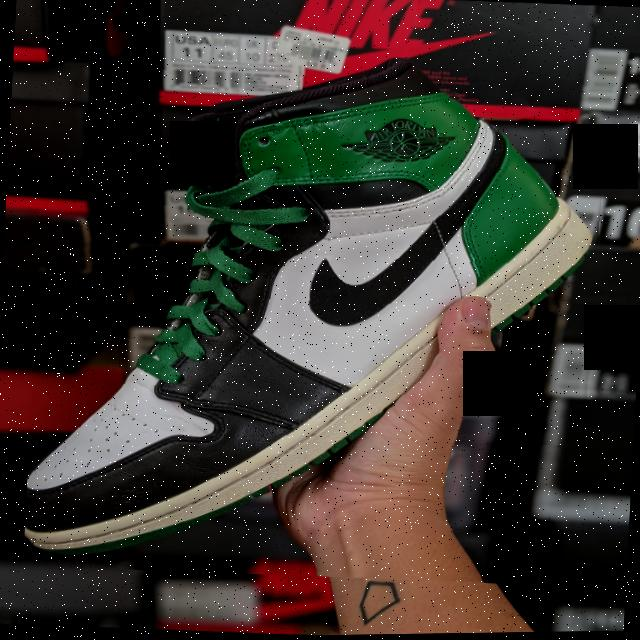shoe: (23, 36, 612, 595)
